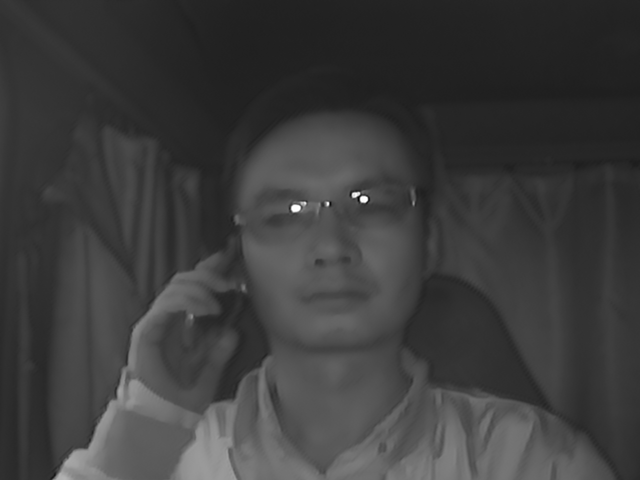hand: (127, 255, 240, 395)
